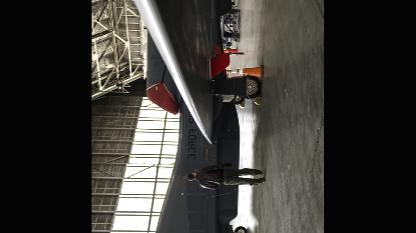P3: (91, 0, 264, 232)
